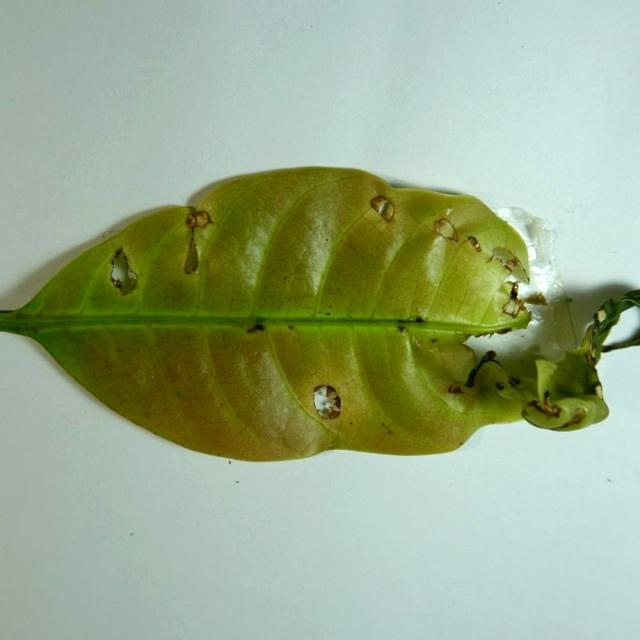Anthracnose: (348, 324, 462, 443), (424, 220, 528, 327), (199, 167, 380, 225), (15, 327, 113, 429), (316, 204, 404, 315), (192, 198, 264, 315), (205, 333, 280, 421), (270, 211, 334, 313), (28, 246, 100, 315), (290, 367, 351, 431), (532, 358, 561, 401), (157, 280, 192, 309)
Mango: (0, 166, 639, 465)
